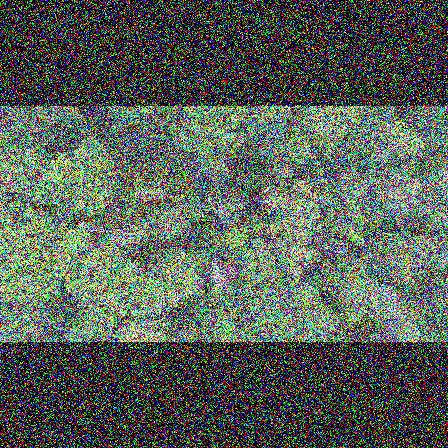Dead: (356, 287, 405, 323), (76, 217, 144, 239), (207, 254, 240, 295), (312, 234, 353, 264), (205, 189, 229, 224)
